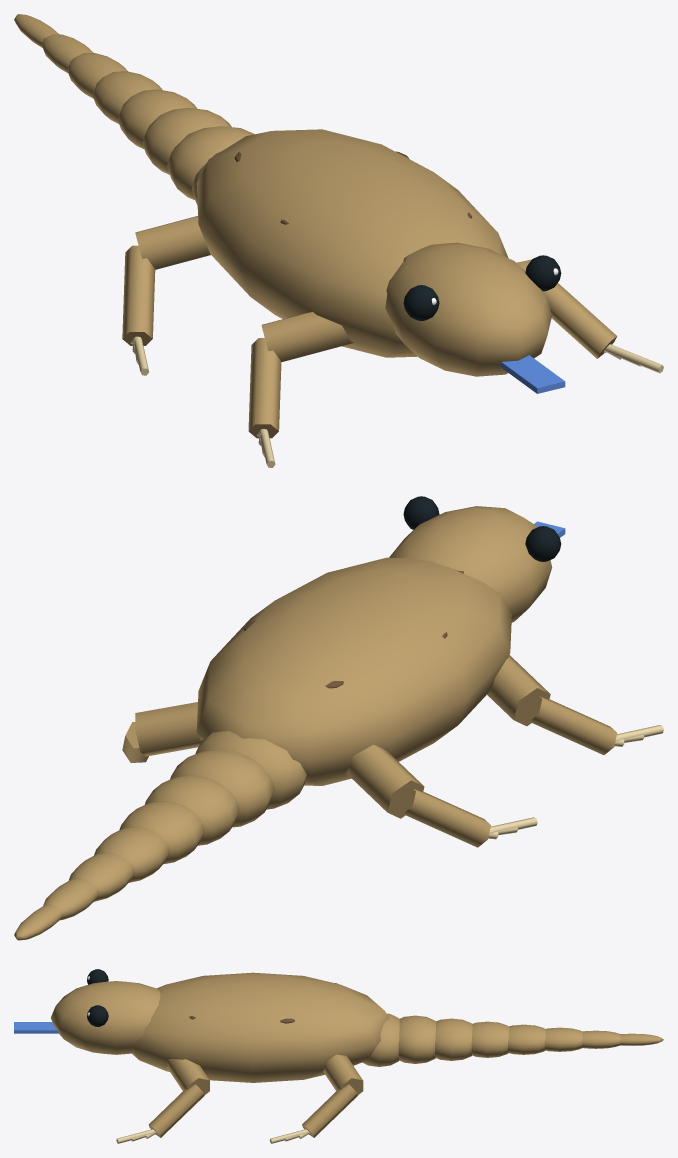
File: skink.glb
The picture shows the model from 3 angles, top to bottom: view 1: azimuth 30°, elevation 25°; view 2: azimuth 150°, elevation 25°; view 3: azimuth 270°, elevation 25°; orthographic projection. The views are drawn at different scales.
Visible parts, largest first — view 1: skin (×14), eye (×2), blue-tongue; view 2: skin (×15), eye (×2); view 3: skin (×14), blue-tongue, eye.
Part boxes in pixels (left/top/right/bottom): skin (×14): left=14, top=14, right=617, bottom=438; eye (×2): left=403, top=255, right=561, bottom=320; blue-tongue: left=500, top=355, right=565, bottom=393; skin (×15): left=14, top=506, right=617, bottom=940; eye (×2): left=403, top=496, right=561, bottom=561; skin (×14): left=51, top=972, right=663, bottom=1137; blue-tongue: left=14, top=1022, right=58, bottom=1033; eye: left=87, top=1005, right=108, bottom=1026.
Size of the model in its own units: 2.55 by 1.04 by 5.93.
